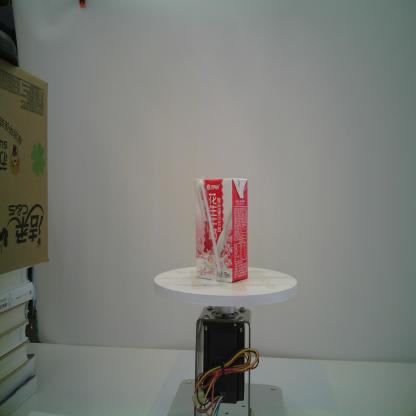Milk: (194, 176, 249, 285)
